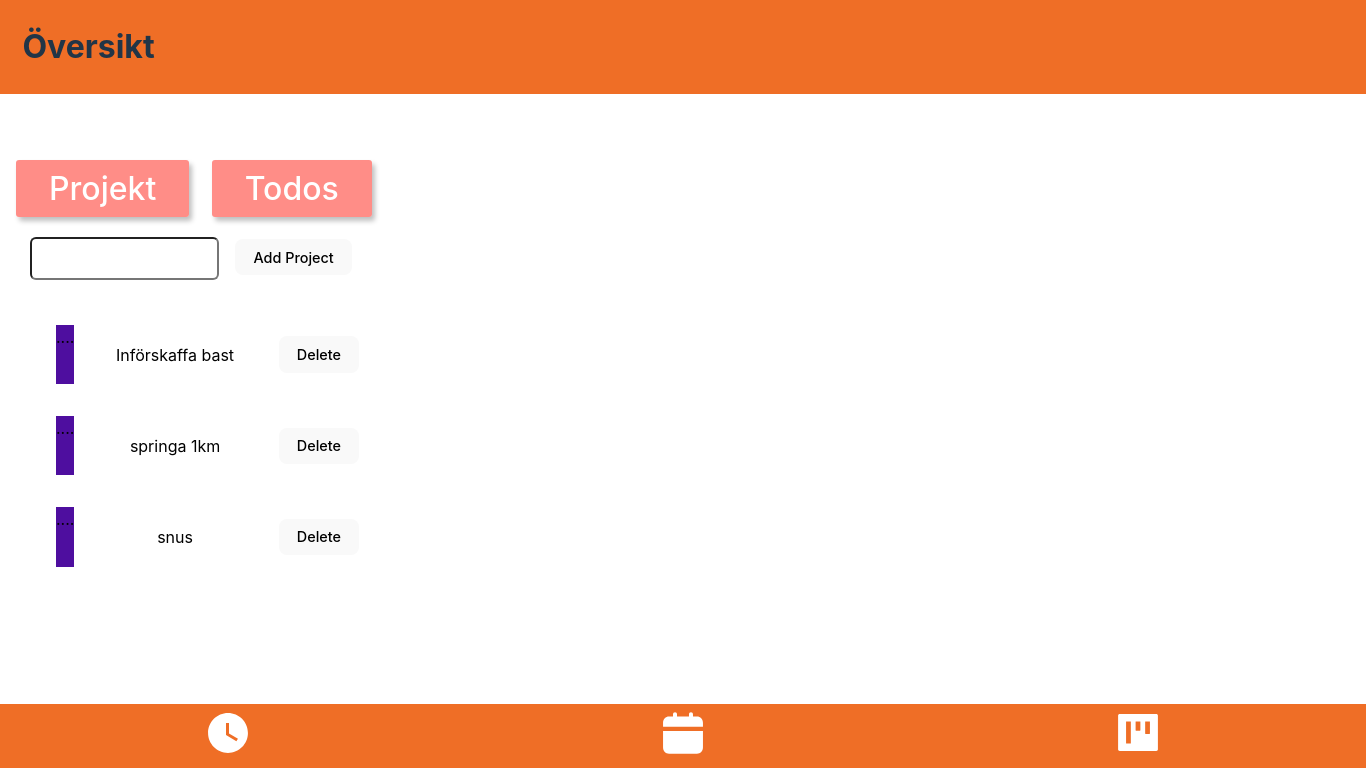
Projects › removing a project should remove it from projects overview
Click the button "Delete" next to "snus": {"x": 319, "y": 537} [279,519,359,555]
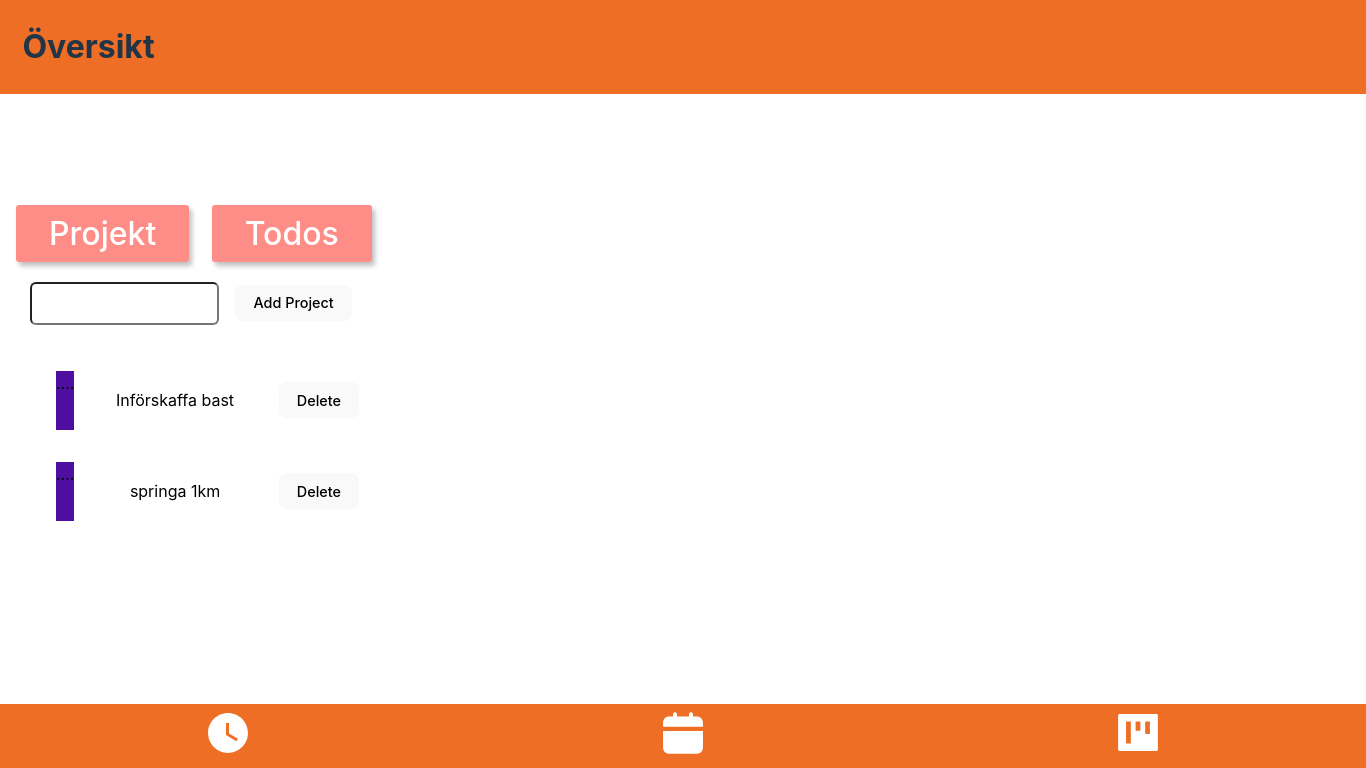
Now the list item "snus" is gone
